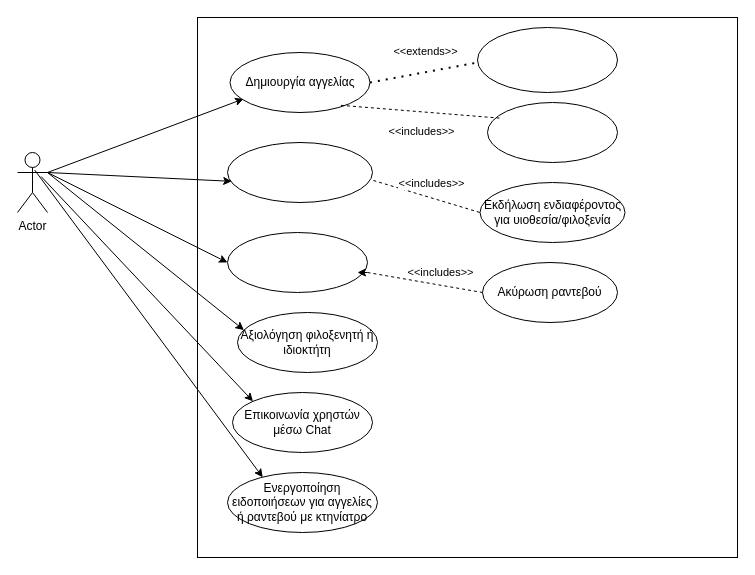
The diagram is 755 pixels wide and 575 high, and some of its shapes have lost their labels. Each missing label, with the centre of its shape:
Έγκριση αιτήματος ενδιαφέροντος από συντάκτη: (x=552, y=132)
Αναζήτηση αγγελίας που αφορά υιοθεσία/φιλοξενία: (x=299, y=172)
Διαγραφή/Επεξεργασία αγγελίας: (x=547, y=59)
Κλείσιμο ραντεβού με κτηνίατρο: (x=297, y=262)
